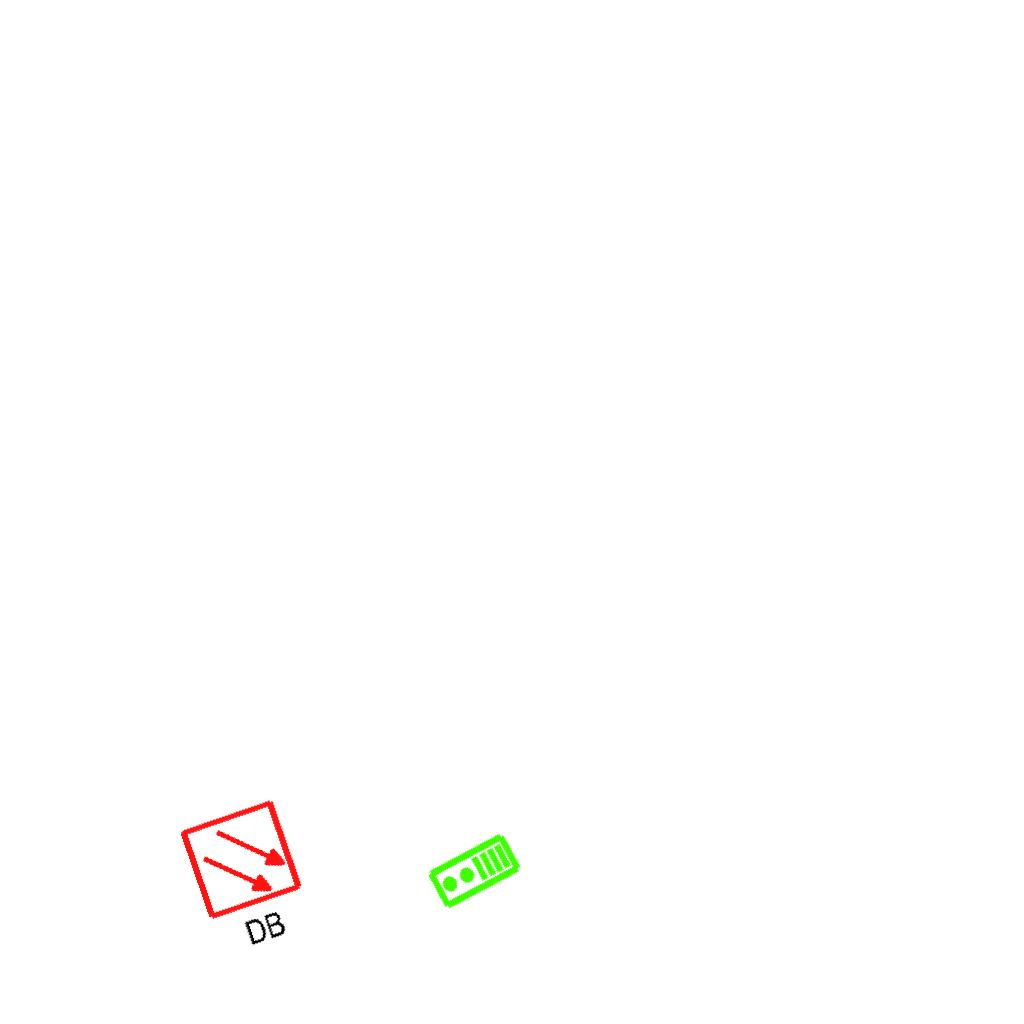DB_Melder_in_Doppelboden_mit_Revisionsoeffnung_mind_40_x_40_cm: (170, 789, 328, 968)
Gegensprechanlage_mit_Video: (424, 830, 525, 914)
